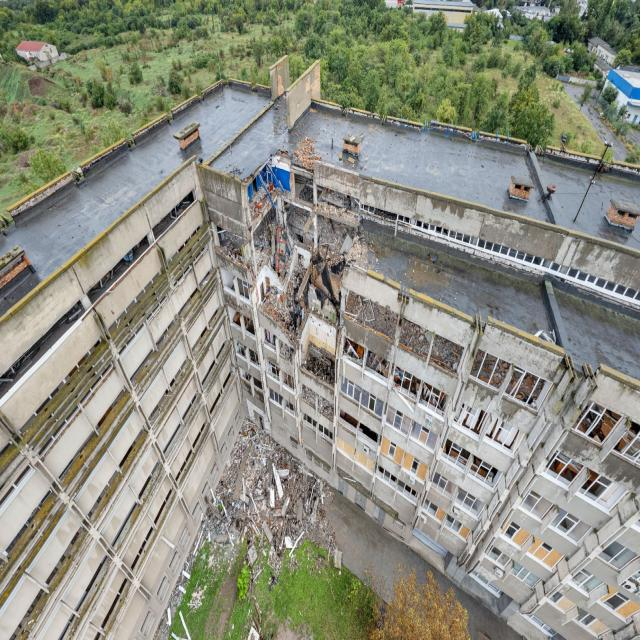broken_window: (569, 570, 640, 623), (548, 592, 612, 638), (574, 468, 632, 513), (501, 366, 554, 414), (572, 400, 625, 448), (341, 374, 384, 422), (468, 348, 512, 393), (485, 416, 528, 459), (550, 509, 593, 545), (546, 450, 584, 487), (526, 538, 566, 571), (612, 422, 640, 469), (520, 489, 556, 524), (453, 403, 490, 436), (469, 457, 504, 488), (500, 521, 532, 551), (442, 439, 471, 472), (410, 422, 439, 454), (385, 406, 413, 437), (402, 452, 429, 483), (381, 437, 405, 470), (445, 516, 472, 544), (487, 543, 513, 571), (421, 500, 446, 523), (376, 466, 399, 490), (353, 451, 374, 477), (397, 482, 420, 504), (337, 437, 356, 461), (261, 327, 277, 354), (278, 339, 294, 364), (269, 387, 284, 410), (281, 369, 295, 393), (228, 307, 242, 330), (266, 360, 280, 383), (303, 412, 317, 434), (318, 423, 334, 442), (243, 316, 256, 338), (284, 399, 296, 419), (234, 340, 246, 360), (252, 376, 263, 395), (239, 368, 250, 385), (249, 349, 259, 367)
building: (0, 156, 640, 640), (4, 164, 240, 321), (288, 59, 322, 99), (271, 58, 292, 90)
damage: (2, 266, 222, 607), (9, 305, 228, 640), (0, 218, 212, 508), (60, 335, 234, 640), (0, 186, 197, 401), (198, 152, 362, 348), (344, 290, 465, 376), (392, 368, 448, 416), (342, 337, 391, 384), (301, 346, 336, 390), (301, 383, 334, 423), (357, 423, 380, 451), (338, 409, 358, 436)
other: (155, 417, 534, 640), (268, 0, 640, 169), (225, 42, 273, 90)
roof: (1, 75, 322, 328), (281, 99, 640, 252), (352, 219, 640, 387)
